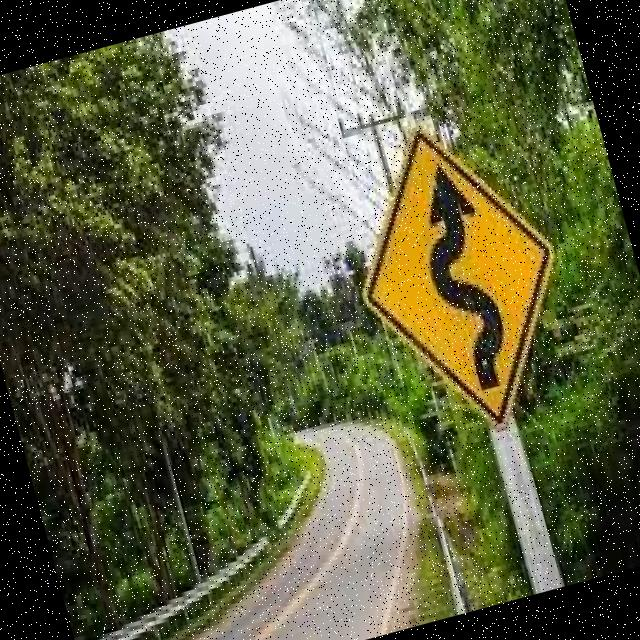left_sharp_curve: (320, 92, 594, 454)
